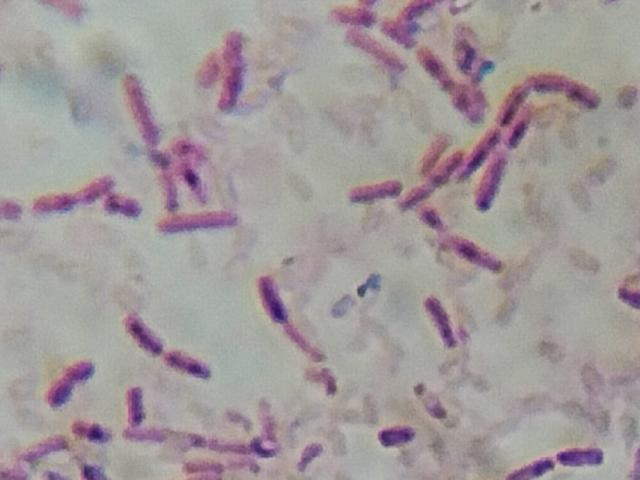E. coli: (256, 267, 322, 352), (132, 426, 280, 457), (424, 45, 483, 115), (530, 65, 602, 107), (215, 35, 254, 107), (152, 208, 242, 235), (50, 358, 97, 405), (34, 177, 110, 206), (452, 232, 499, 278), (476, 155, 513, 213), (426, 292, 462, 348), (345, 27, 396, 65), (12, 426, 59, 465), (126, 72, 155, 133), (415, 378, 453, 423), (557, 439, 609, 471), (498, 450, 549, 480), (127, 312, 165, 350), (158, 346, 204, 375), (496, 80, 527, 119), (378, 417, 414, 448), (325, 8, 386, 25), (425, 202, 454, 237), (348, 181, 400, 200), (383, 11, 413, 43), (72, 417, 107, 444), (429, 155, 464, 182), (104, 191, 144, 214), (127, 381, 150, 421), (394, 0, 437, 21), (418, 137, 451, 163), (399, 181, 433, 206), (80, 452, 110, 480), (472, 130, 496, 163), (186, 159, 208, 192), (158, 168, 177, 205), (515, 119, 536, 150)
